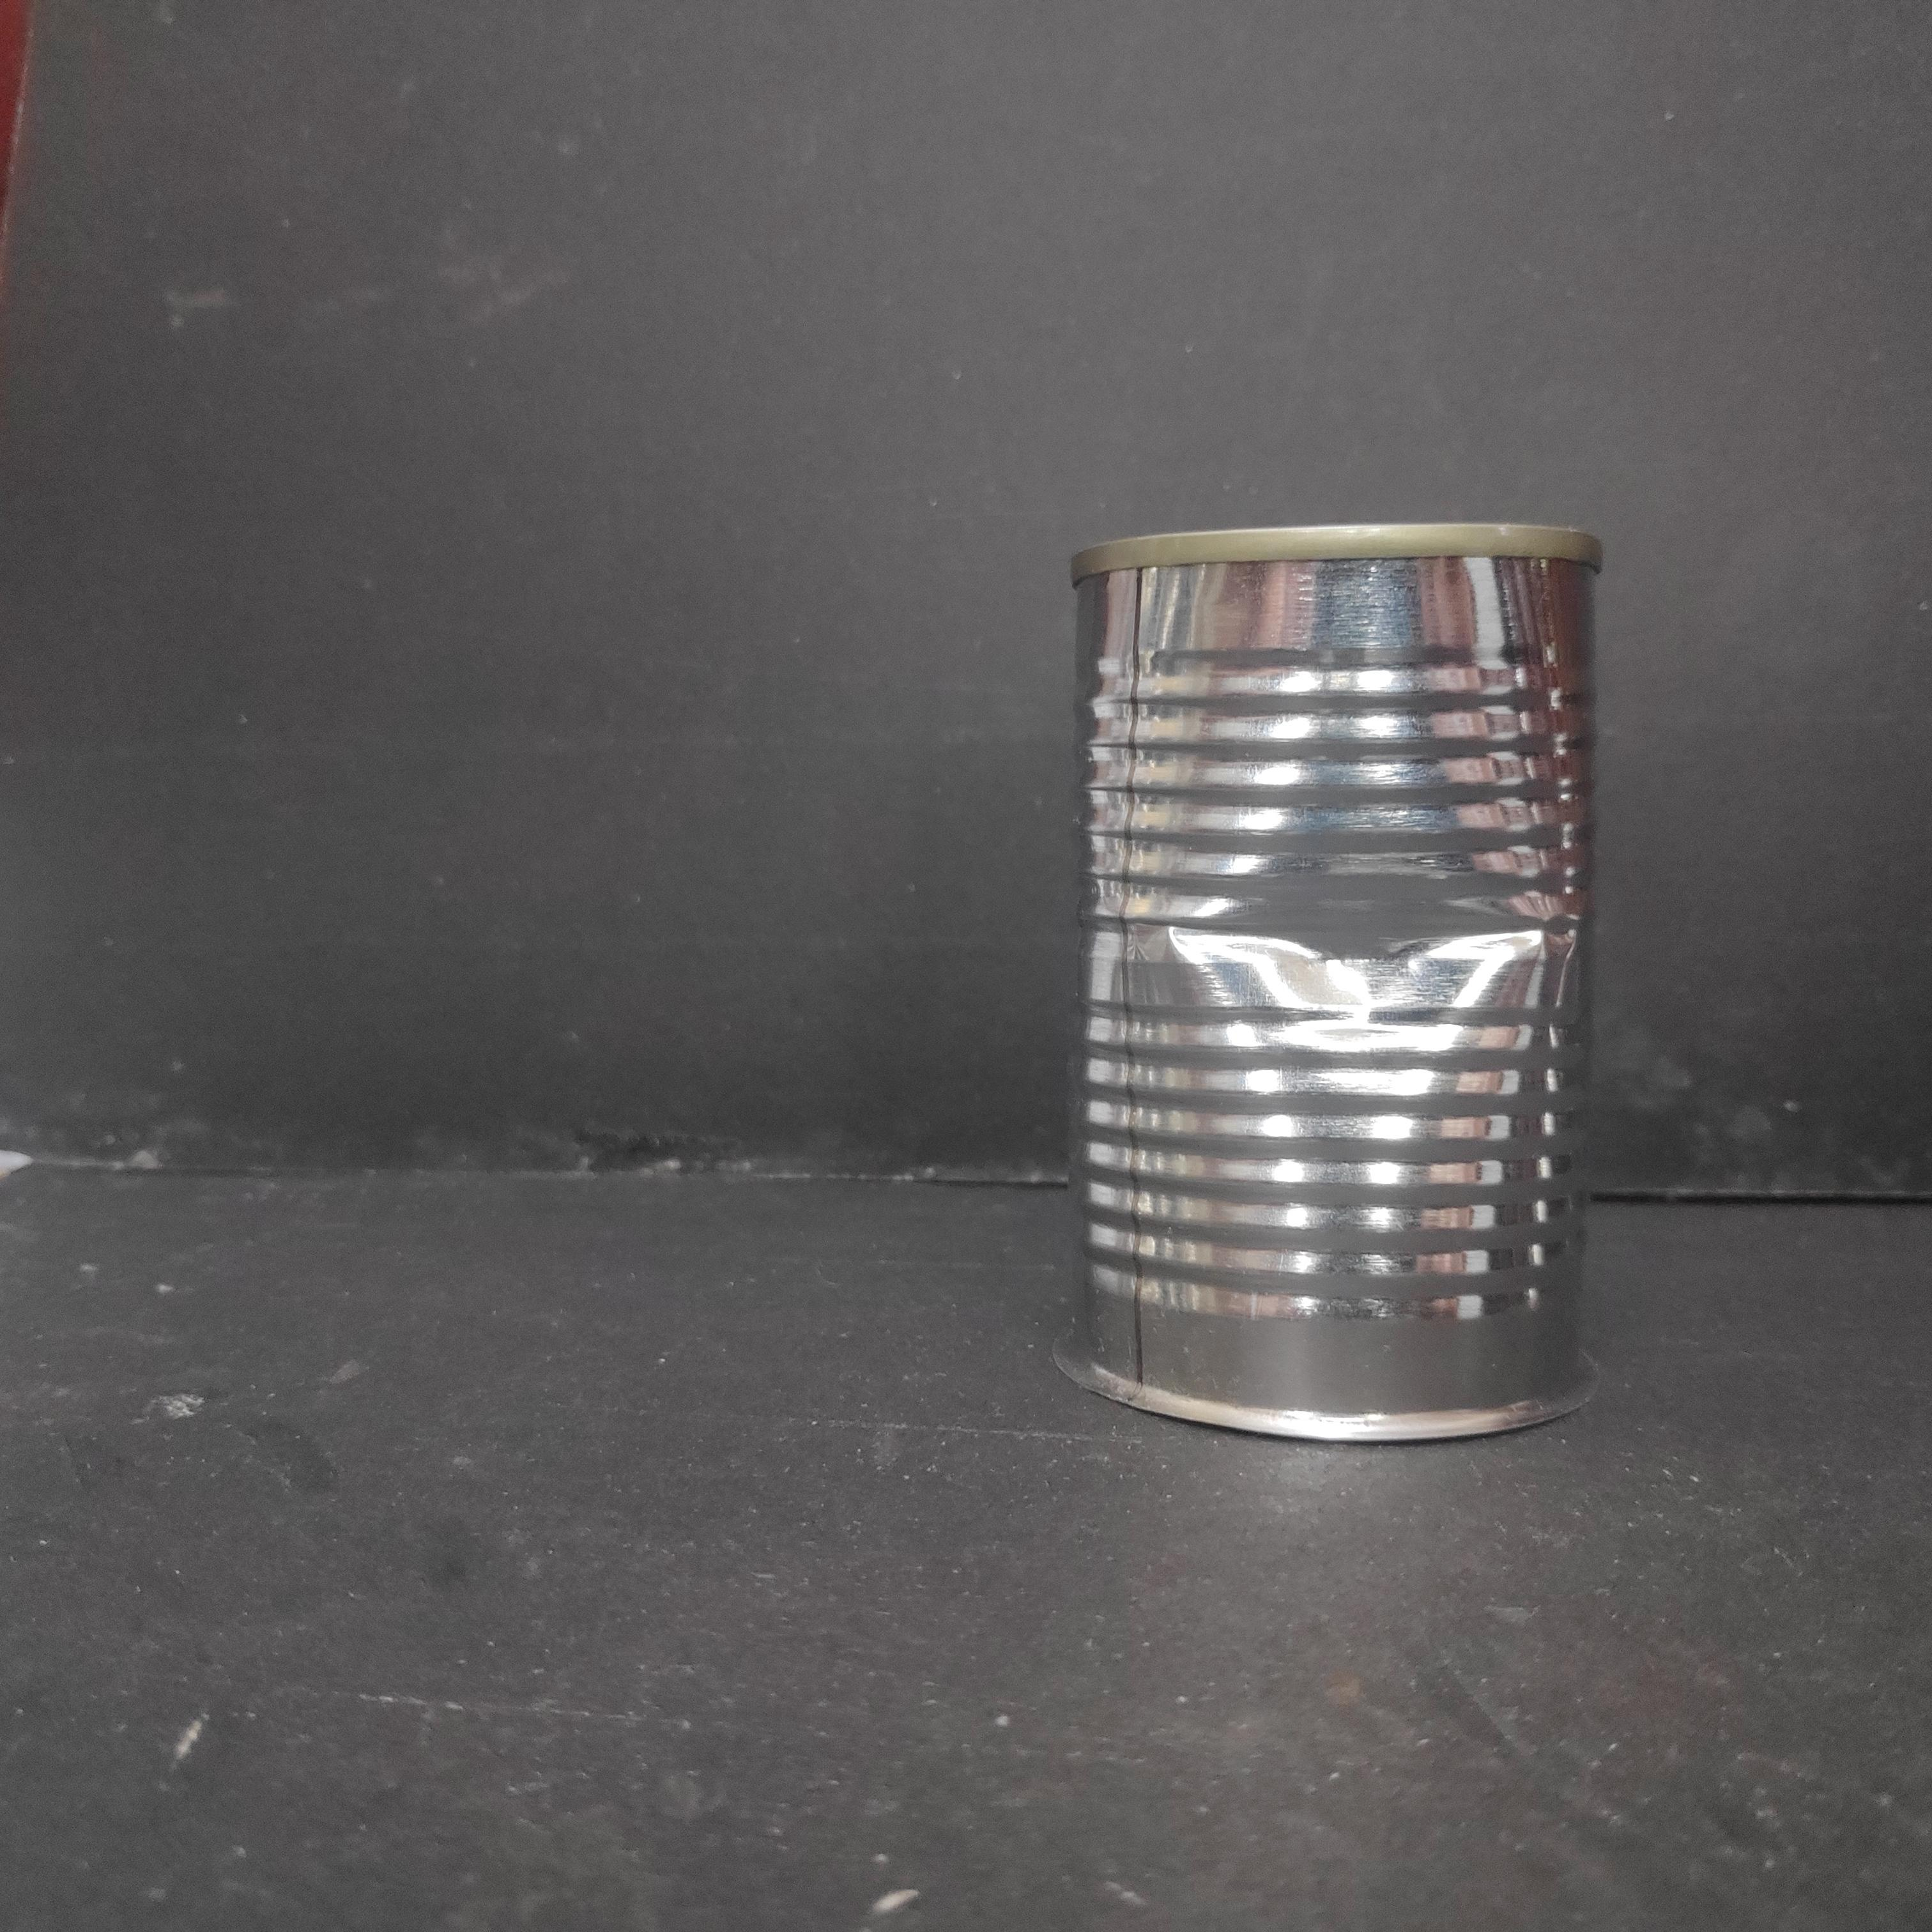Minor Defect: (1053, 511, 1610, 1456)
